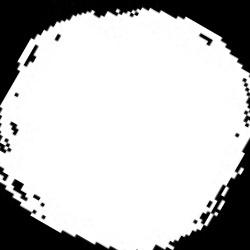spot: (0, 8, 248, 248)
